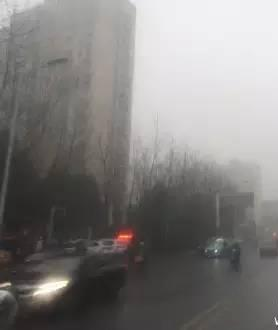car: (4, 253, 122, 319), (63, 236, 103, 256), (203, 237, 234, 257), (100, 236, 131, 253), (258, 236, 278, 259)
